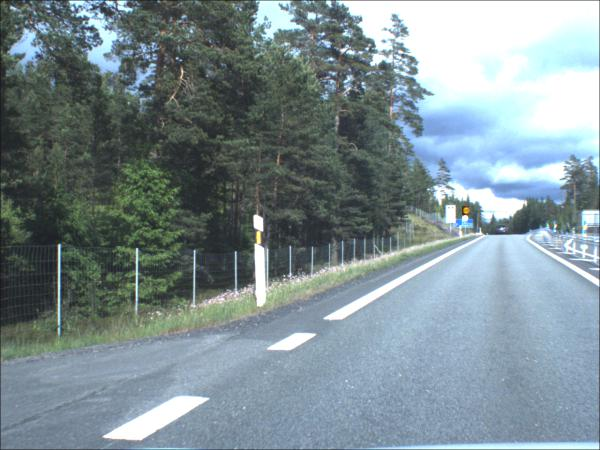100_SIGN: (462, 207, 470, 217)
PRIORITY_ROAD: (462, 216, 469, 223)
